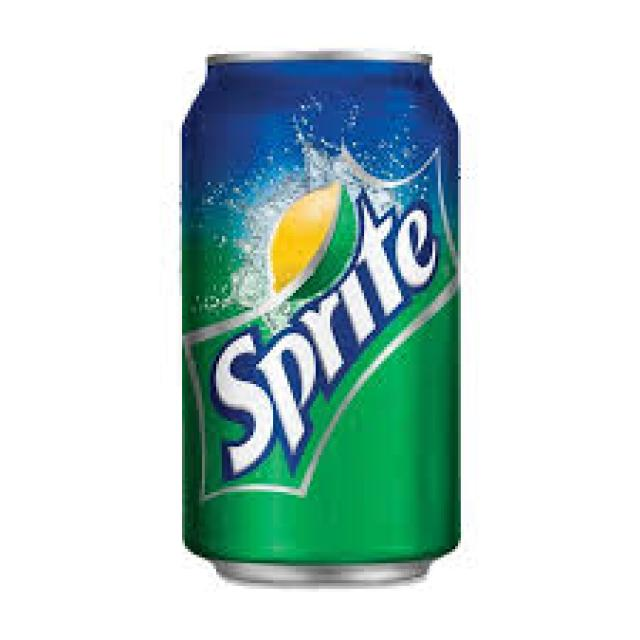aluminum_can: (182, 54, 461, 583)
